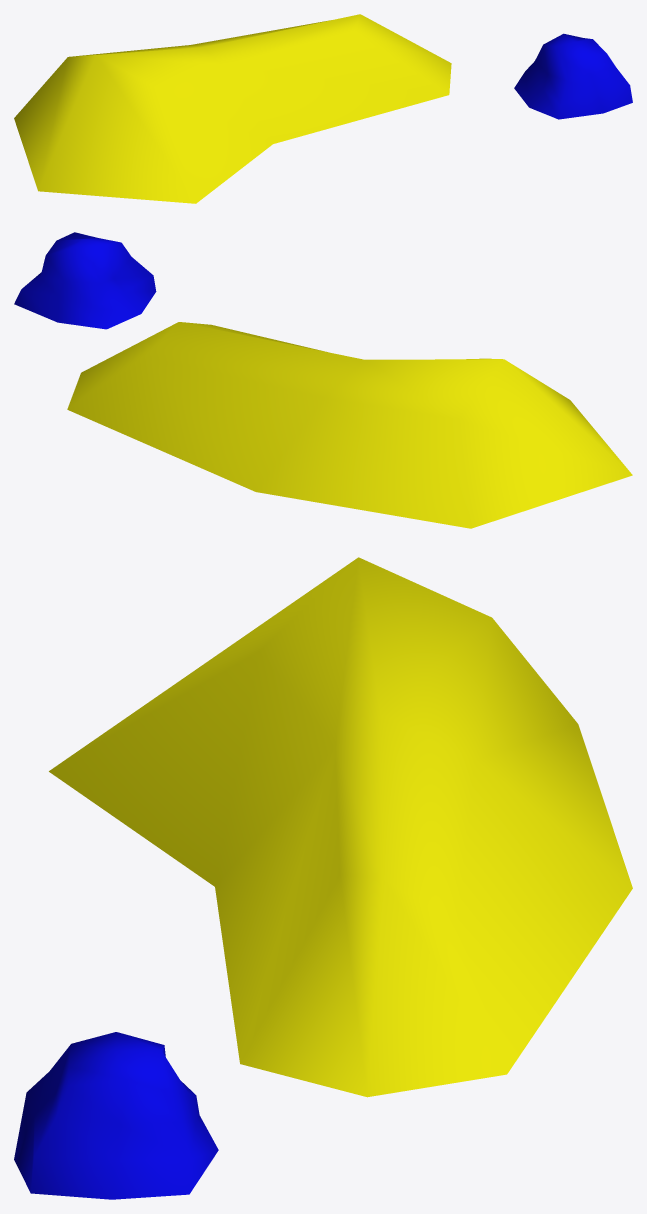
File: Sandpile.fbx
The picture shows the model from 3 angles, top to bottom: view 1: azimuth 30°, elevation 25°; view 2: azimuth 150°, elevation 25°; view 3: azimuth 270°, elevation 25°; orthographic projection. The views are drawn at different scales.
Parts seen in each view (by area): view 1: mesh_sandpile; view 2: mesh_sandpile; view 3: mesh_sandpile.
Part boxes in pixels (x1,y1,x2,y2): mesh_sandpile: [14, 14, 632, 203]; mesh_sandpile: [14, 232, 632, 528]; mesh_sandpile: [14, 557, 632, 1199].
Bounding box in the file's own units: 793 × 136 × 390.
